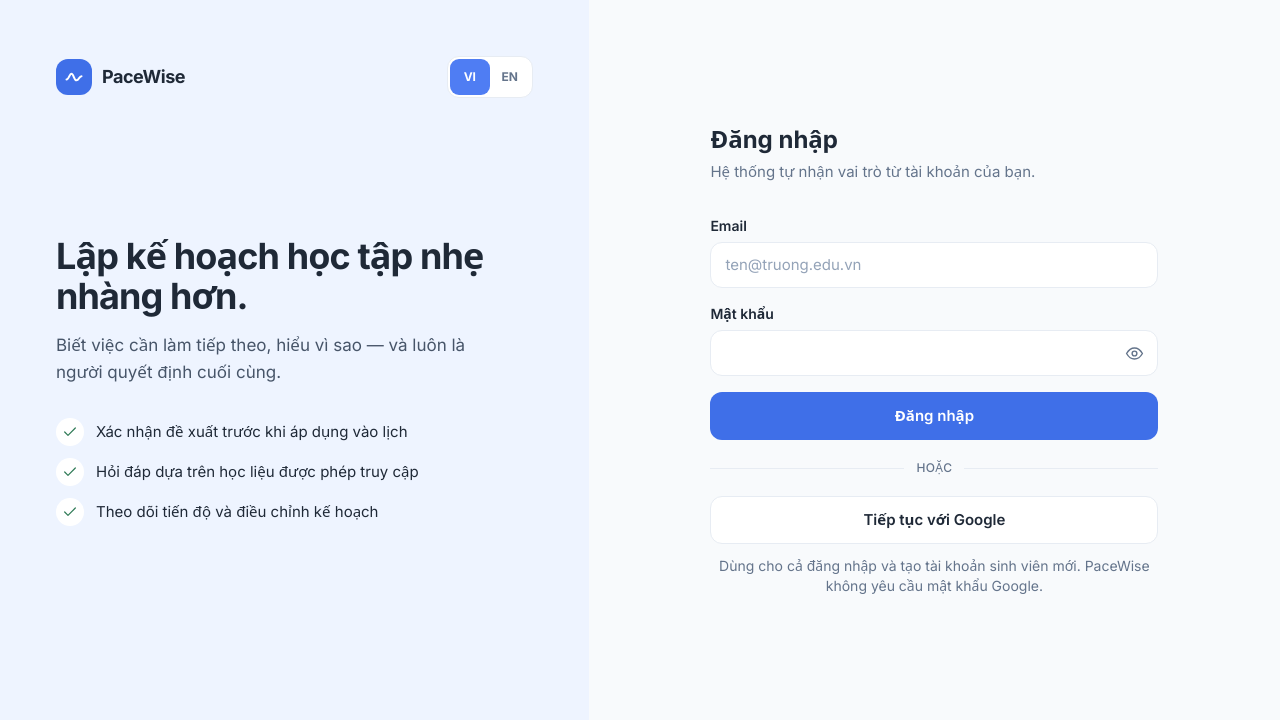
Test: login and browser history › shows and hides the password without changing its value
Type "mat-khau-bi-mat" into the password field labelled "Mật khẩu".
click(934, 353); type("mat-khau-bi-mat")  # box [710,330,1158,376]
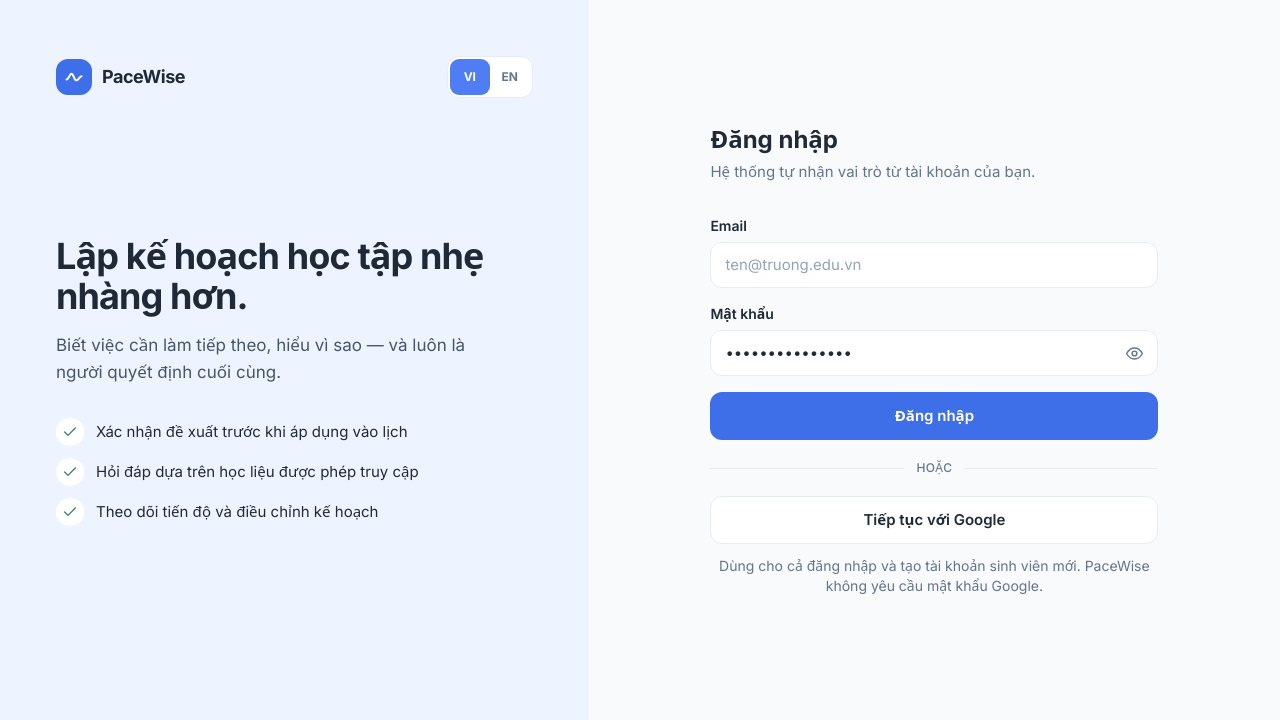
Click the button named "Hiện mật khẩu".
click(1134, 353)  # box [1114,333,1154,373]
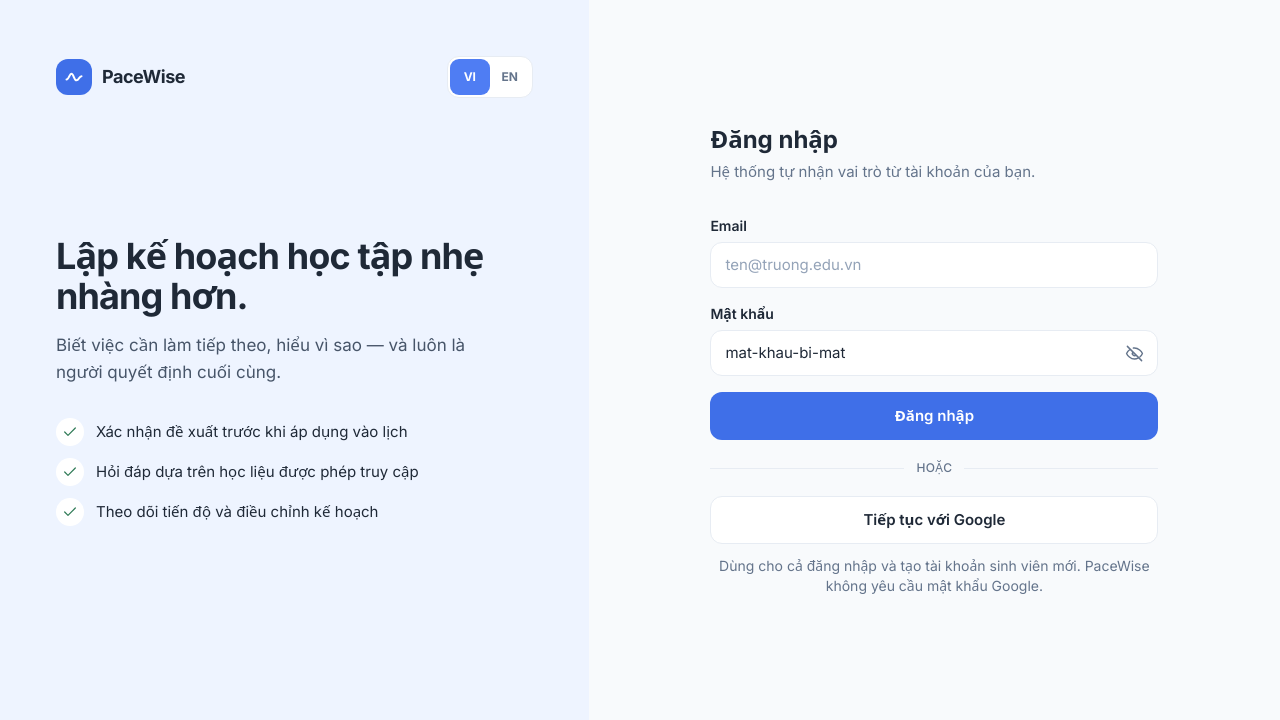
Check: the field labelled "Mật khẩu" shows its text, box [710,330,1158,376]
Click the button named "Ẩn mật khẩu".
click(1134, 353)  # box [1114,333,1154,373]
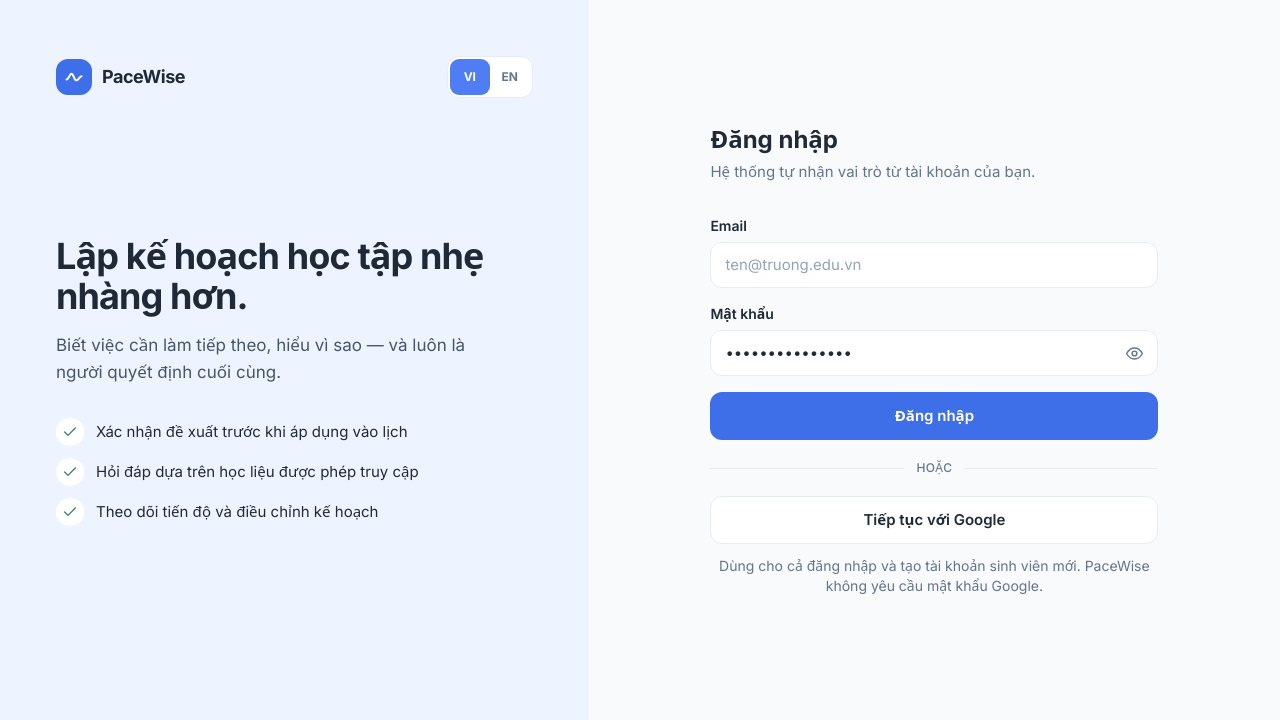
Check: the password field labelled "Mật khẩu" hides its text, box [710,330,1158,376]
